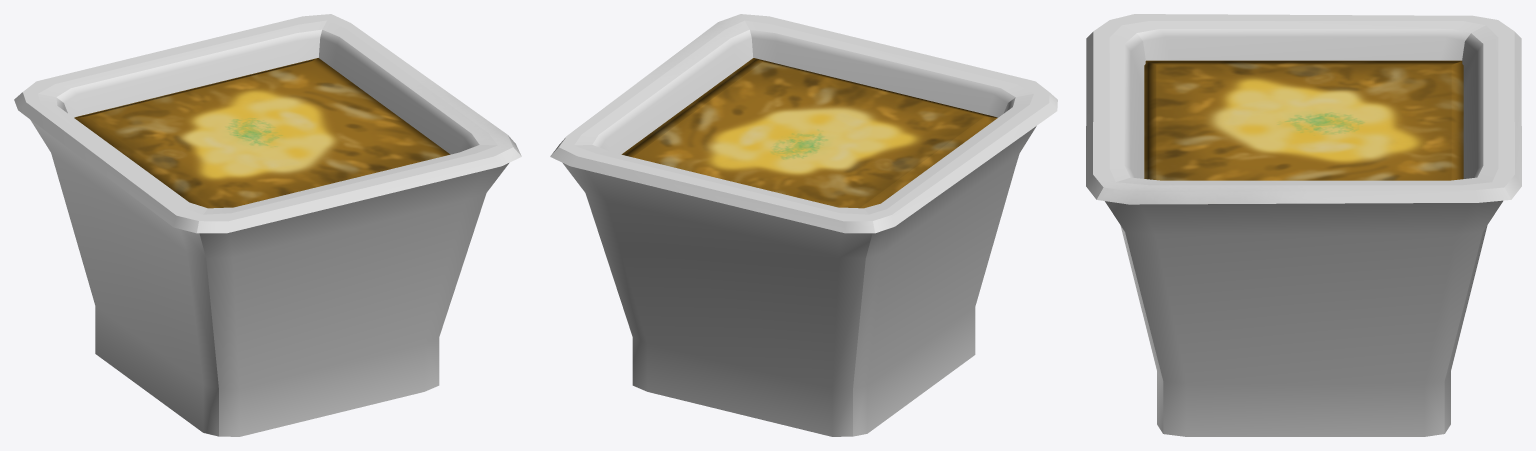
The model's file is Boss2.fbx.
The picture shows the model from 3 angles, left to right: view 1: azimuth 30°, elevation 25°; view 2: azimuth 150°, elevation 25°; view 3: azimuth 270°, elevation 25°; orthographic projection. The views are drawn at different scales.
Parts seen in each view (by area): view 1: pCube1; view 2: pCube1; view 3: pCube1.
Part boxes in pixels (x1=…): pCube1: x1=14, y1=14, x2=521, y2=436; pCube1: x1=550, y1=14, x2=1057, y2=436; pCube1: x1=1086, y1=14, x2=1521, y2=436.
Bounding box in the file's own units: 296 × 204 × 297.
Materials: 1 (1 with a texture image).
